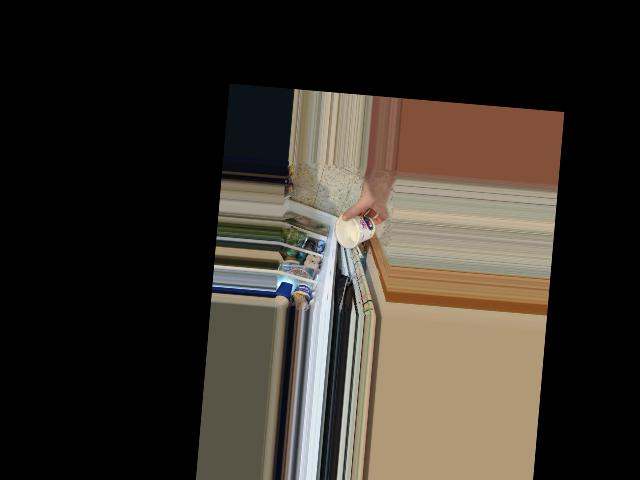cotage: (334, 212, 376, 247)
